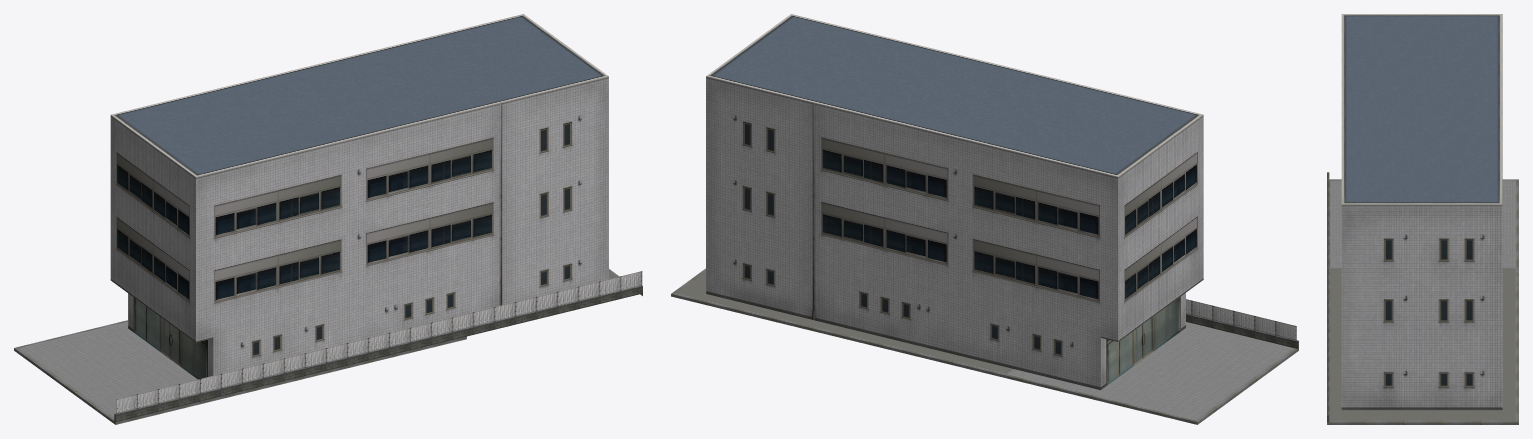
Rendered from Apartment_white.fbx.
The picture shows the model from 3 angles, left to right: view 1: azimuth 30°, elevation 25°; view 2: azimuth 150°, elevation 25°; view 3: azimuth 270°, elevation 25°; orthographic projection. The views are drawn at different scales.
Parts seen in each view (by area): view 1: 100_Apartment_white, 200_fence_30m, 000_Site_apartment_white; view 2: 100_Apartment_white, 000_Site_apartment_white, 200_fence_30m; view 3: 100_Apartment_white, 000_Site_apartment_white, 200_fence_30m.
Part boxes in pixels (box(x1,y1,x2,y2)): 100_Apartment_white: box(110, 14, 608, 379); 200_fence_30m: box(114, 271, 642, 422); 000_Site_apartment_white: box(14, 269, 642, 424); 100_Apartment_white: box(706, 14, 1203, 389); 000_Site_apartment_white: box(671, 268, 1298, 424); 200_fence_30m: box(1186, 299, 1298, 348); 100_Apartment_white: box(1341, 14, 1502, 410); 000_Site_apartment_white: box(1327, 179, 1518, 424); 200_fence_30m: box(1327, 172, 1329, 422).
Bounding box in the file's own units: 30 × 12 × 10.
